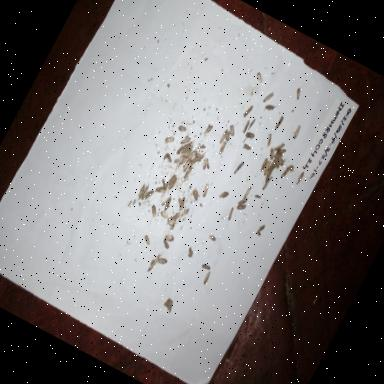pbw: (230, 158, 246, 180), (260, 172, 274, 194), (214, 138, 230, 157), (180, 164, 195, 184), (271, 114, 286, 133), (178, 156, 192, 176), (290, 121, 304, 141), (260, 158, 274, 178), (256, 155, 270, 174), (260, 100, 276, 116), (240, 130, 255, 147), (292, 170, 306, 188), (225, 122, 239, 140), (198, 182, 212, 200), (240, 184, 254, 202), (200, 156, 215, 172), (262, 89, 276, 106), (171, 151, 185, 168), (201, 121, 214, 139), (244, 115, 257, 133), (278, 164, 291, 182), (217, 186, 231, 202), (252, 222, 266, 238), (178, 204, 192, 220), (272, 138, 286, 154), (252, 70, 266, 86), (239, 119, 252, 136), (241, 103, 254, 120), (164, 172, 177, 189), (197, 156, 210, 172), (224, 206, 237, 222), (181, 137, 194, 153), (139, 184, 151, 201), (162, 132, 176, 146), (164, 216, 178, 230), (273, 144, 287, 158), (284, 162, 298, 176), (146, 204, 160, 218), (291, 85, 304, 100), (178, 133, 191, 148), (220, 129, 233, 144), (262, 132, 274, 148), (166, 175, 178, 191), (200, 270, 212, 286), (262, 168, 274, 184), (135, 184, 147, 200), (175, 196, 187, 212), (217, 127, 228, 144), (234, 201, 248, 214), (157, 208, 170, 222), (272, 157, 286, 170), (142, 188, 154, 203), (160, 192, 172, 207), (162, 196, 173, 212), (161, 151, 174, 164), (160, 237, 172, 251), (170, 209, 182, 223), (264, 146, 276, 160), (179, 145, 191, 158), (236, 195, 248, 208), (188, 154, 200, 167), (184, 246, 196, 259), (155, 255, 168, 267), (269, 158, 282, 170), (266, 147, 277, 161), (154, 184, 166, 196), (162, 232, 174, 244), (140, 234, 152, 246), (174, 142, 184, 156), (178, 154, 188, 168), (240, 142, 252, 153), (158, 177, 169, 188), (207, 232, 218, 243), (195, 142, 206, 153), (200, 262, 212, 272), (176, 124, 187, 134), (174, 196, 184, 206), (252, 192, 261, 202), (188, 148, 197, 158), (194, 152, 202, 160)
